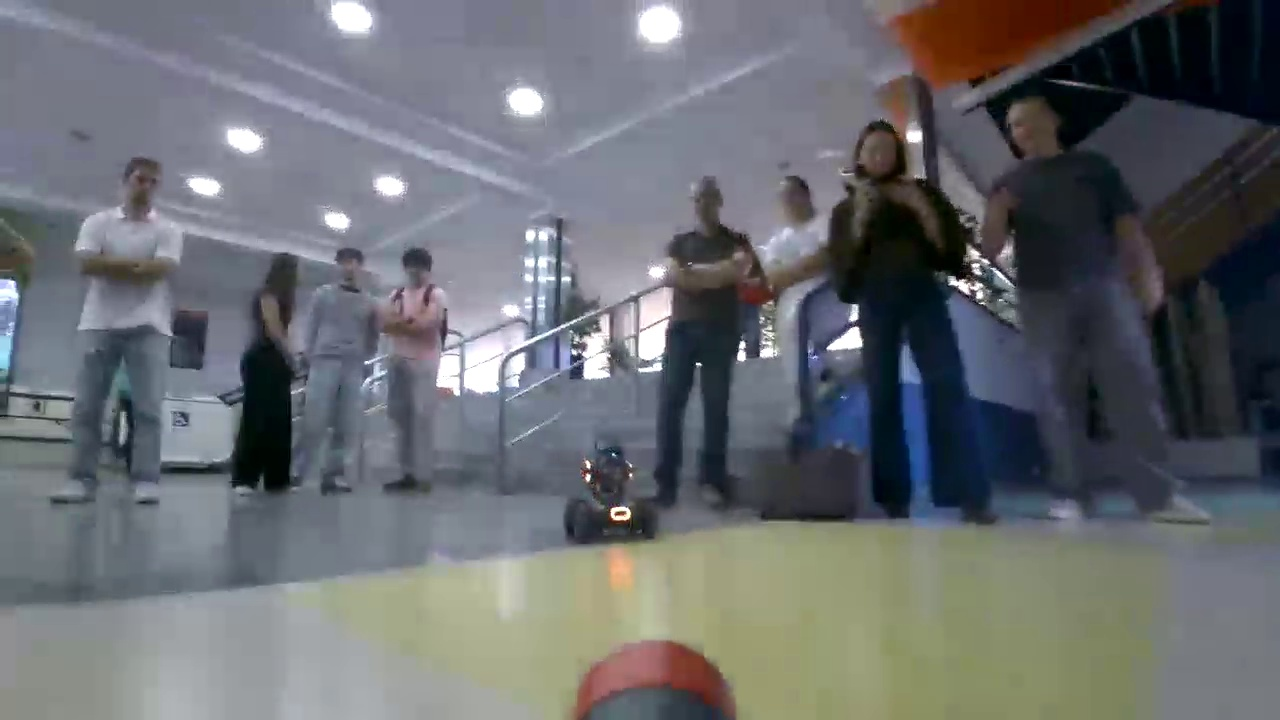robot: (563, 446, 660, 545)
